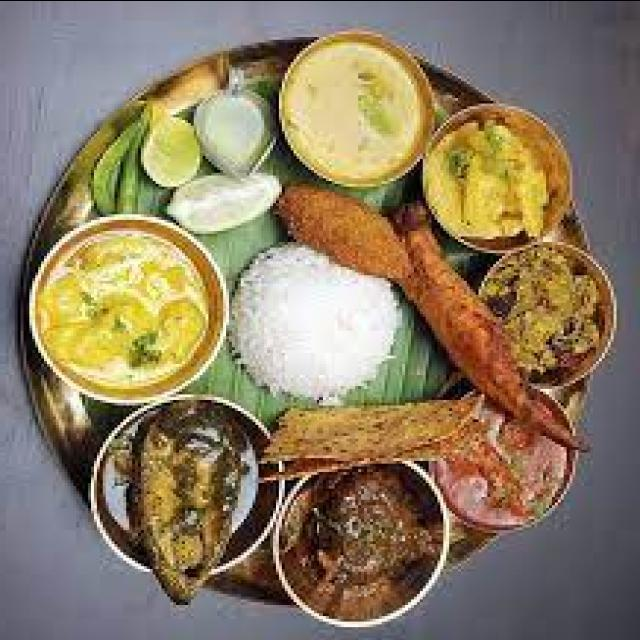dal: (116, 411, 250, 595), (423, 122, 567, 241)
rice: (236, 248, 408, 409), (480, 244, 612, 384)
sweet: (283, 470, 439, 621), (444, 407, 578, 527)
